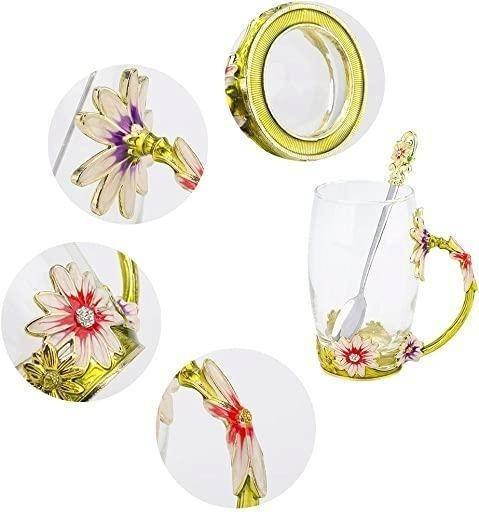glass-mug: (303, 175, 479, 388)
